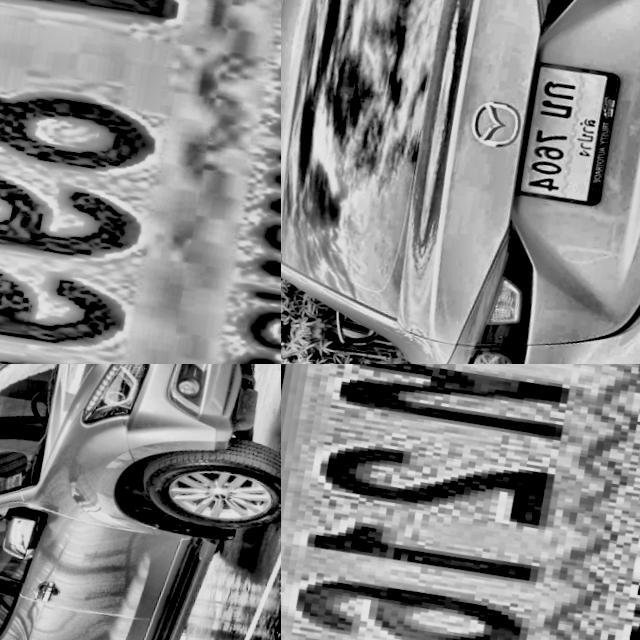license-plate: (0, 0, 281, 364), (281, 364, 640, 640), (506, 60, 624, 213)
